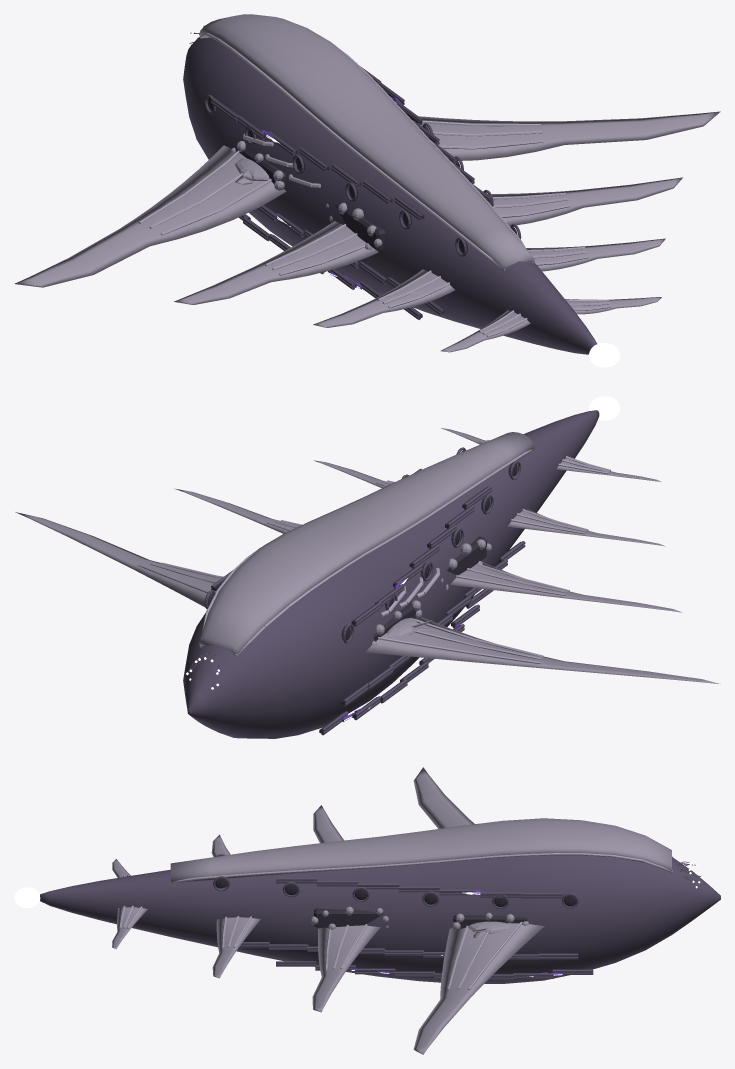
The picture shows the model from 3 angles, top to bottom: view 1: azimuth 30°, elevation 25°; view 2: azimuth 150°, elevation 25°; view 3: azimuth 270°, elevation 25°; orthographic projection. The views are drawn at different scales.
Visible parts, largest first — view 1: RIMWARD_HULL, RIMWARD_ENGINE_GLOW; view 2: RIMWARD_HULL, RIMWARD_ENGINE_GLOW; view 3: RIMWARD_HULL.
Boxes of the visible parts, <box> form: RIMWARD_HULL: <box>14,14,720,354</box>; RIMWARD_ENGINE_GLOW: <box>588,343,620,367</box>; RIMWARD_HULL: <box>15,410,720,738</box>; RIMWARD_ENGINE_GLOW: <box>588,396,620,420</box>; RIMWARD_HULL: <box>40,767,720,1054</box>.
Size of the model in its own units: 28.93 by 7.07 by 30.02.
